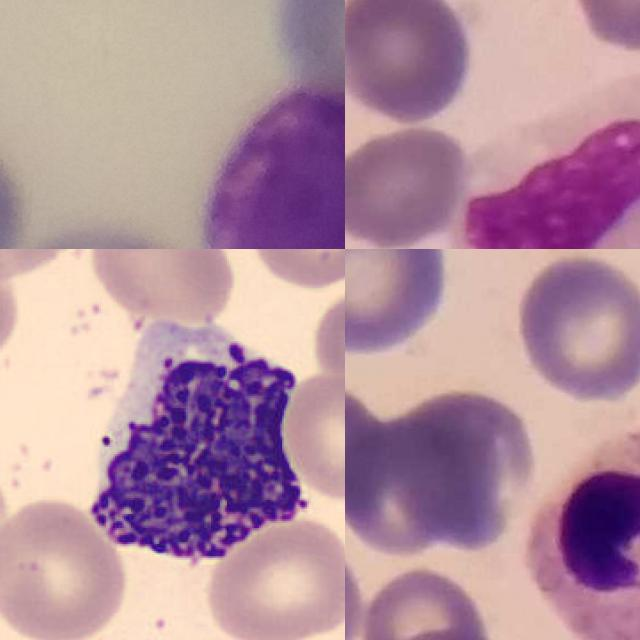Basophil: (74, 313, 320, 586), (202, 84, 345, 249)
Monocyte: (465, 73, 640, 249)
Neutrophil: (527, 433, 640, 640)
RBC: (0, 493, 130, 640), (200, 515, 345, 640), (86, 249, 237, 323), (282, 374, 345, 505), (308, 279, 345, 399)
